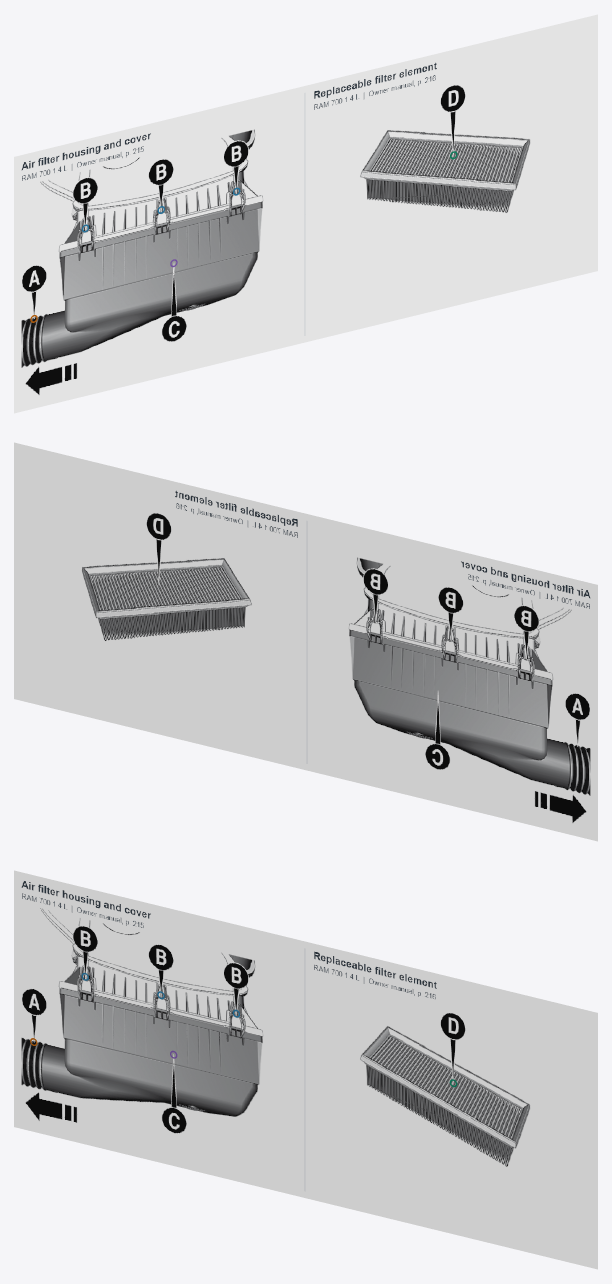
The model's file is ram-700-bighorn-2022-air-filter-detail.glb.
The picture shows the model from 3 angles, top to bottom: view 1: azimuth 30°, elevation 25°; view 2: azimuth 150°, elevation 25°; view 3: azimuth 330°, elevation 25°; orthographic projection.
Visible parts, largest first — view 1: Side view and separate filter view, C – Air filter cover, D – Replaceable air filter element, A – Flexible intake duct; view 2: Side view and separate filter view; view 3: Side view and separate filter view, C – Air filter cover, D – Replaceable air filter element, A – Flexible intake duct.
Part boxes in pixels (x1,y1,x2,y2): Side view and separate filter view: (14,14,597,413); C – Air filter cover: (60,202,262,332); D – Replaceable air filter element: (360,130,530,212); A – Flexible intake duct: (21,311,156,367); Side view and separate filter view: (14,442,597,841); Side view and separate filter view: (14,870,597,1269); C – Air filter cover: (60,987,262,1116); D – Replaceable air filter element: (360,1026,530,1166); A – Flexible intake duct: (21,1038,157,1101).
Bounding box in the file's own units: 1 × 0.4199 × 0.00032.
Materials: 7 (1 with a texture image).
